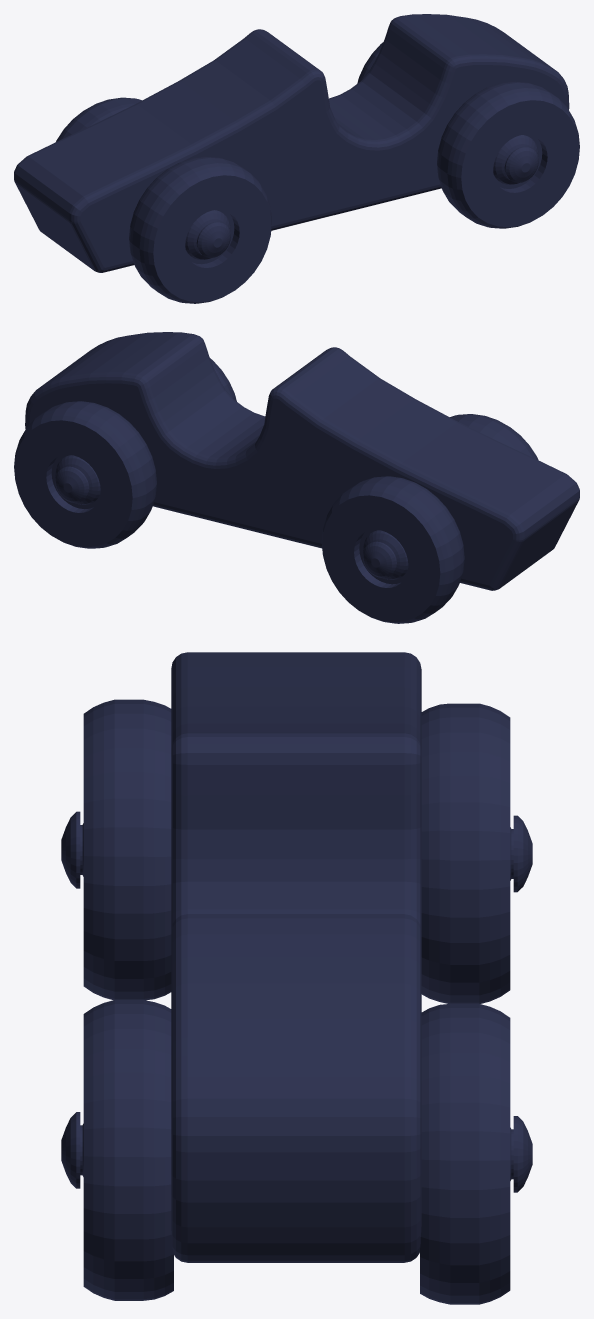
File: Carro Brinquedo5.fbx
The picture shows the model from 3 angles, top to bottom: view 1: azimuth 30°, elevation 25°; view 2: azimuth 150°, elevation 25°; view 3: azimuth 270°, elevation 25°; orthographic projection. The views are drawn at different scales.
Parts seen in each view (by area): view 1: Plane; view 2: Plane; view 3: Plane.
Part boxes in pixels (x1,y1,x2,y2): Plane: (14,14,579,303); Plane: (14,332,579,623); Plane: (61,652,532,1304).
Bounding box in the file's own units: 384 × 139 × 157.
